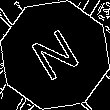N_SE: (25, 23, 85, 87)
